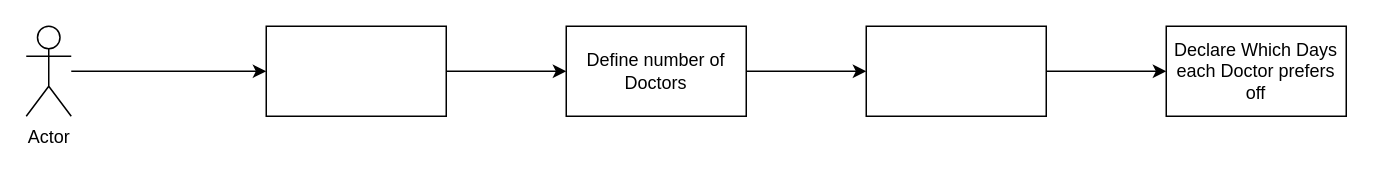
This 1373x174 diagram has some shape labels left out. Each missing label, with the centre of its shape:
Define Shifts per day for one month: the point at 955,70
Select Month: the point at 355,70
